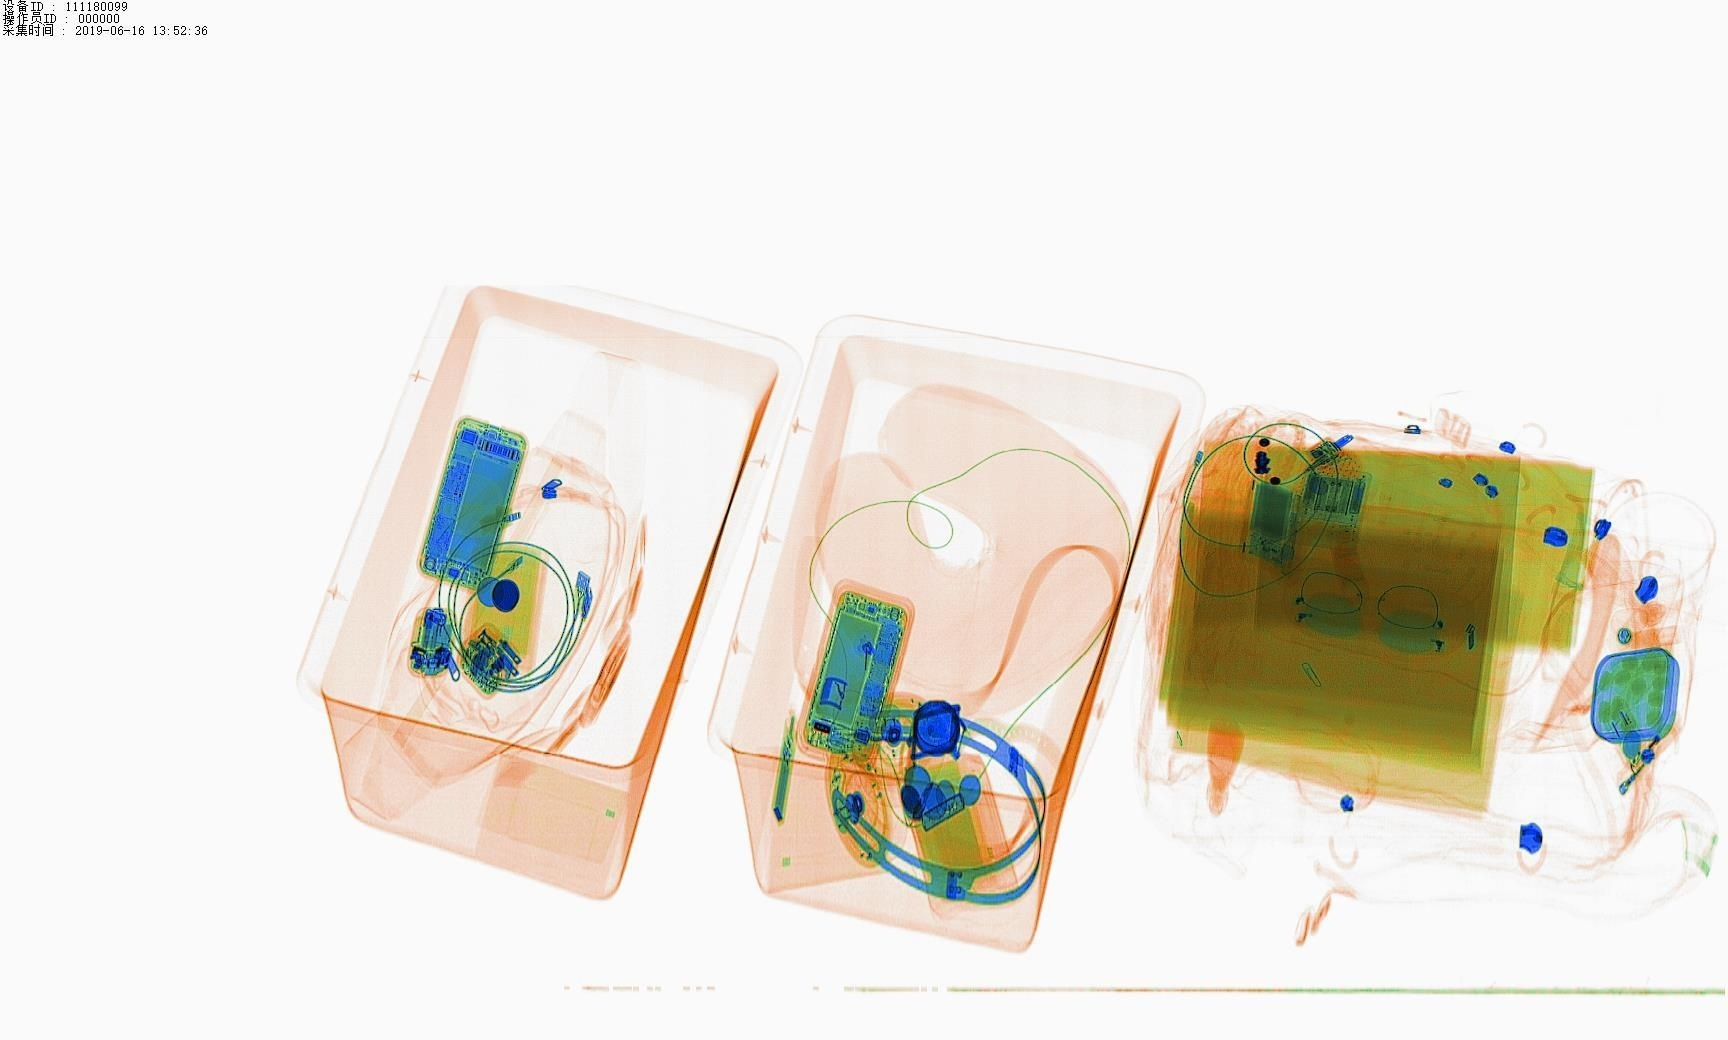NonmetallicFire: (1616, 695, 1690, 798)
